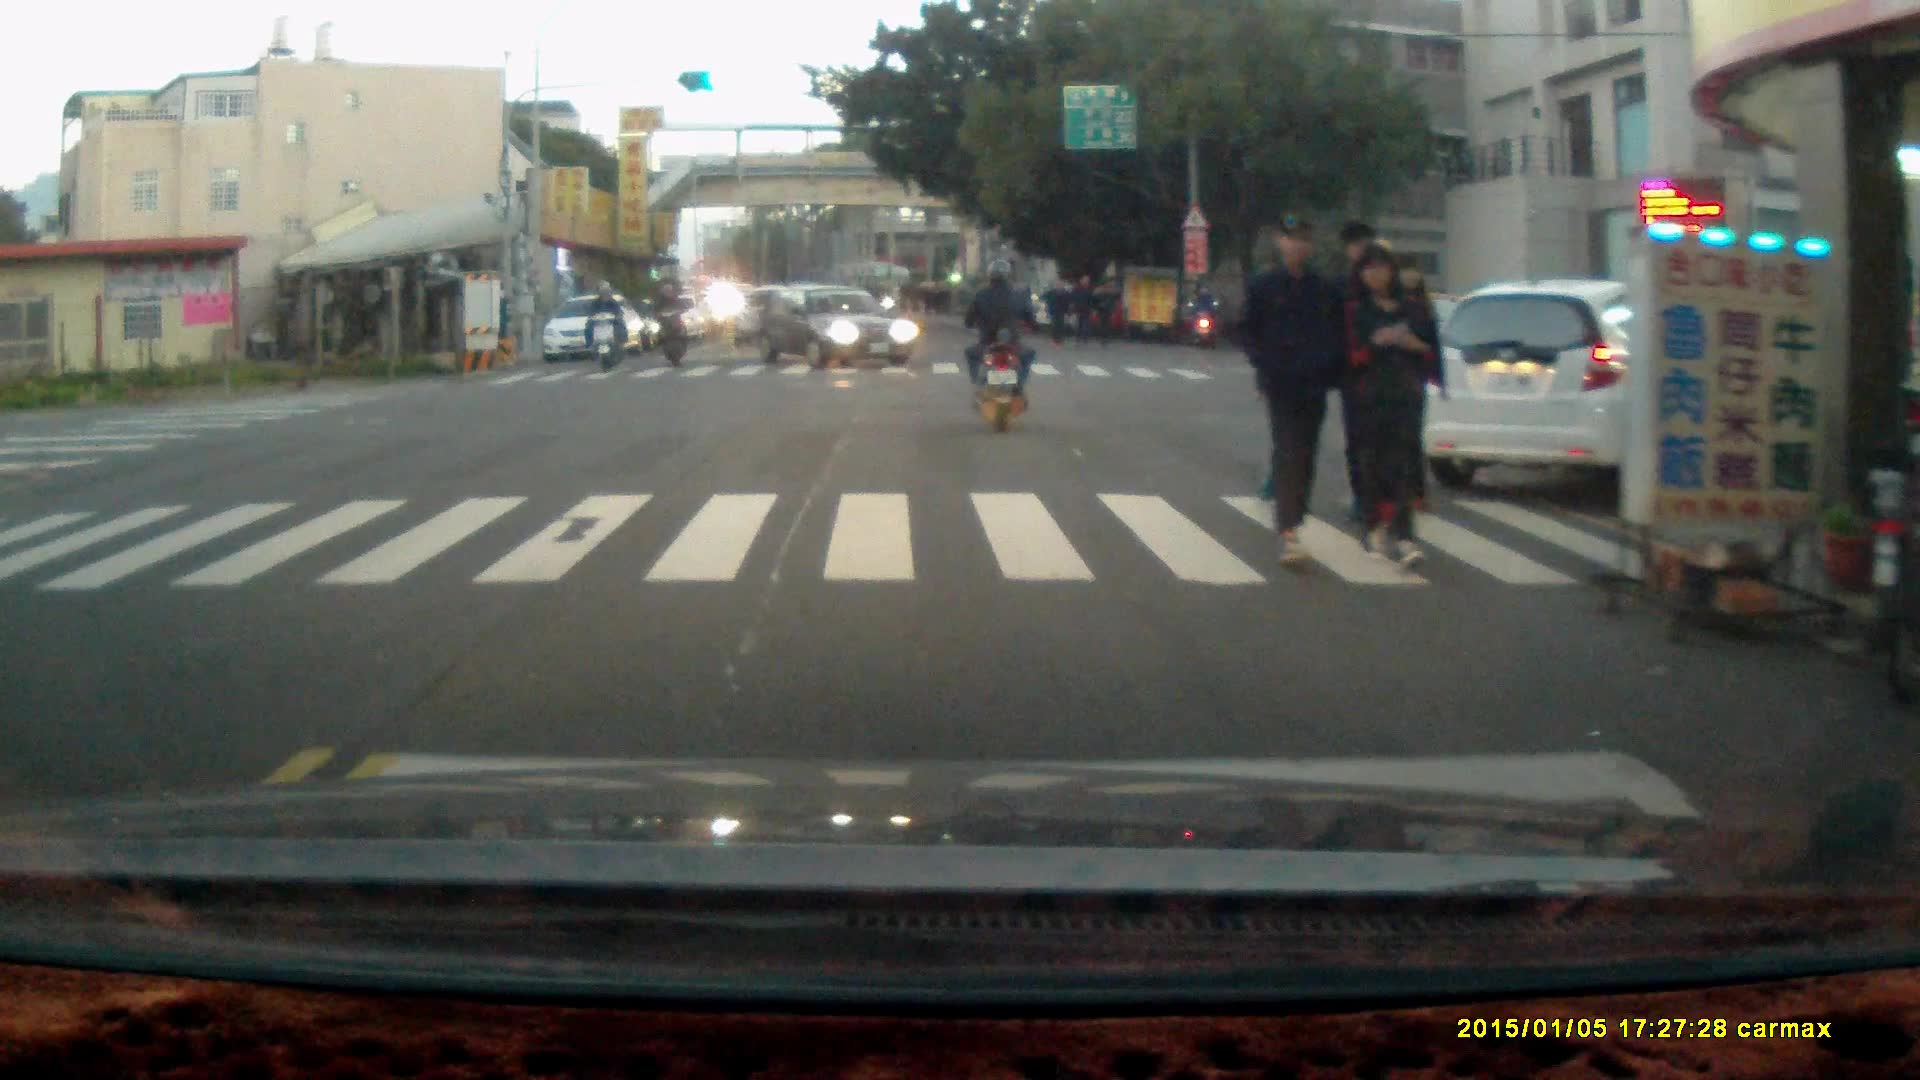pedestrian: (1234, 215, 1349, 573), (1340, 240, 1431, 572), (1086, 280, 1117, 351), (1068, 272, 1095, 352), (1040, 276, 1068, 349)
rider: (961, 256, 1032, 436), (650, 279, 692, 371), (583, 278, 624, 372), (1182, 288, 1222, 350)
vehicle: (1420, 275, 1881, 501), (751, 280, 918, 372), (542, 294, 645, 365)
